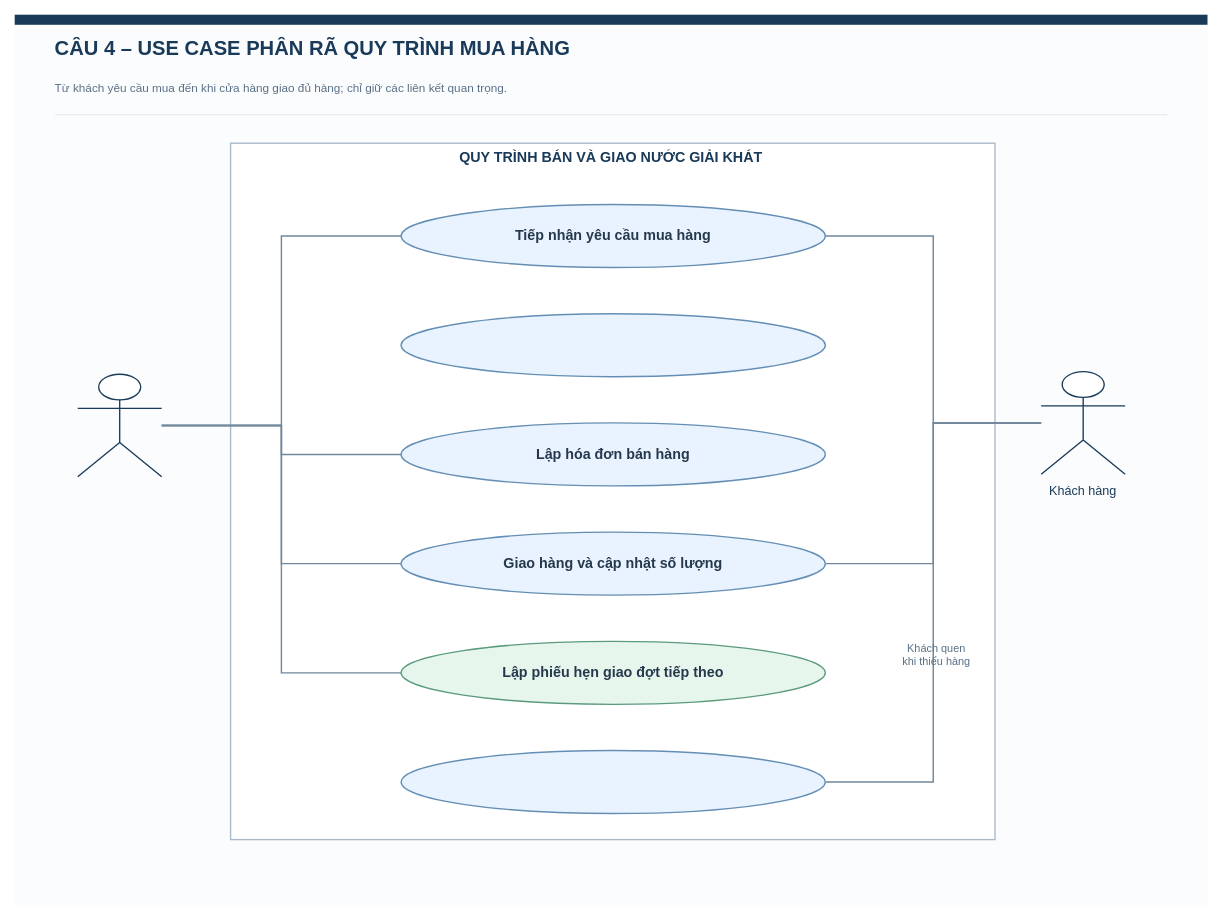
This 1221x919 diagram has some shape labels left out. Here are the shapes that lost their labels. From the top down, the box of each, then its label:
(400, 313, 826, 377): Kiểm tra số lượng tồn kho
(77, 373, 162, 477): Nhân viên cửa hàng
(400, 749, 826, 814): Xác nhận đã giao đầy đủ
